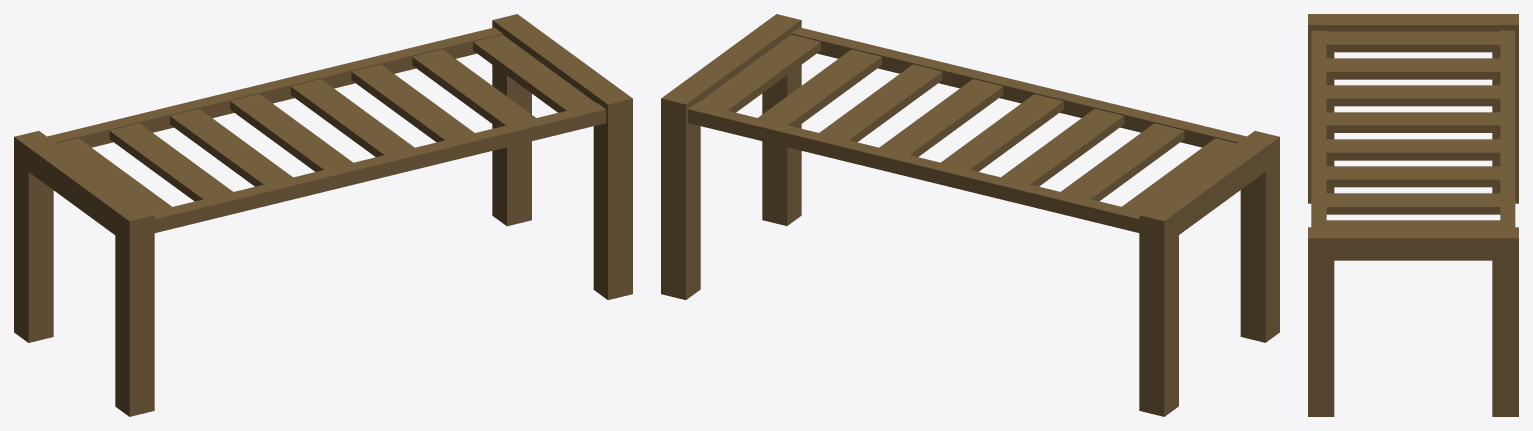
The model's file is bench1.fbx.
3 renders of one model, left to right at view 1: azimuth 30°, elevation 25°; view 2: azimuth 150°, elevation 25°; view 3: azimuth 270°, elevation 25°, orthographic. The views are drawn at different scales.
Parts seen in each view (by area): view 1: Cube.002; view 2: Cube.002; view 3: Cube.002.
Boxes of the visible parts, x1,y1,x2,y2 form: Cube.002: (14,14,632,416); Cube.002: (661,14,1279,416); Cube.002: (1308,14,1518,416).
Size of the model in its own units: 1032 by 383 by 410.
